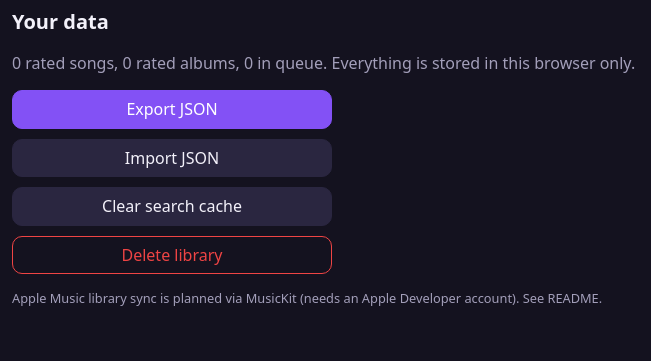
Test: DataView status region › revokes the export blob URL only after the download click
This screenshot has width=651, height=361.
Click the button "Export JSON".
click(172, 110)  # box [12, 90, 332, 129]
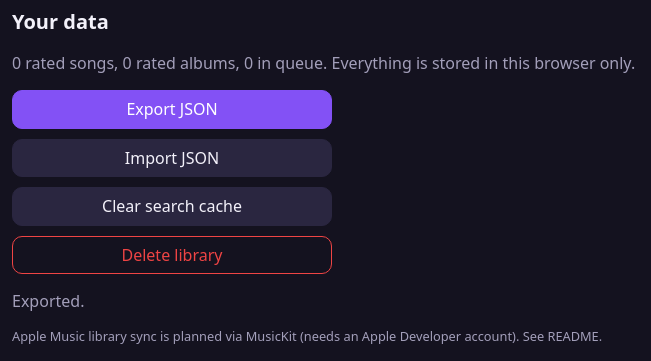
Expected: the message reads "Exported.", [12, 290, 84, 312]
